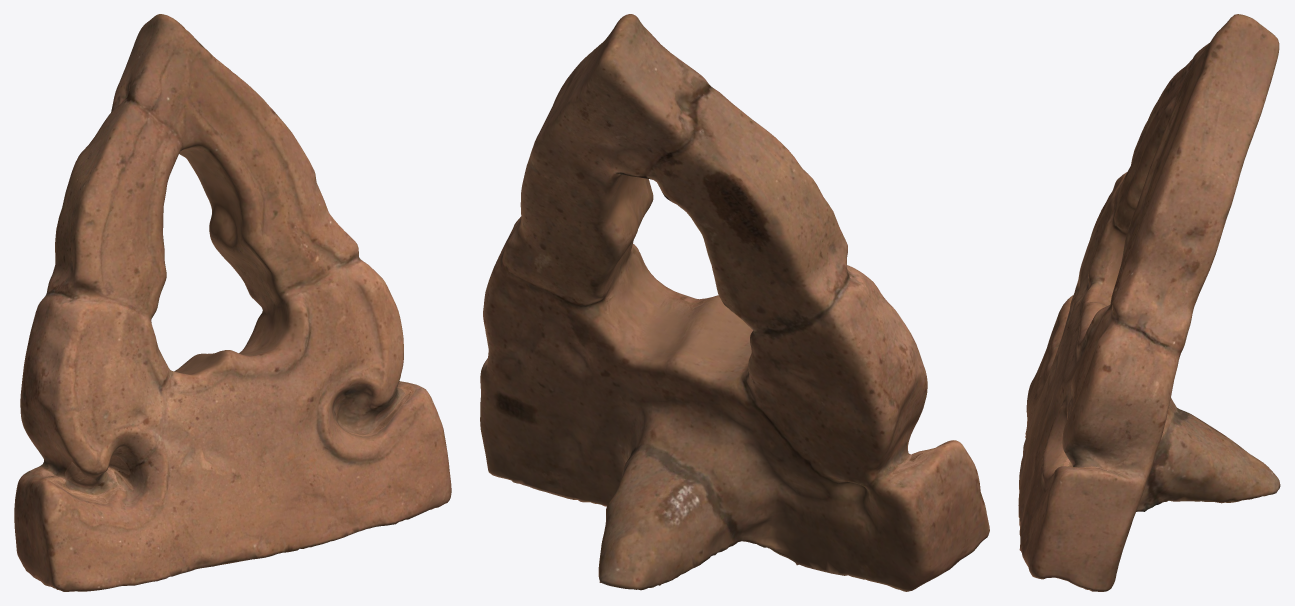
Rendered from MysonMuseum_diemmai3canh_final.glb.
3 renders of one model, left to right at view 1: azimuth 30°, elevation 25°; view 2: azimuth 150°, elevation 25°; view 3: azimuth 270°, elevation 25°, orthographic. The views are drawn at different scales.
Bounding box in the file's own units: 0.2179 × 0.2523 × 0.1217.
1 material, 1 textured.
